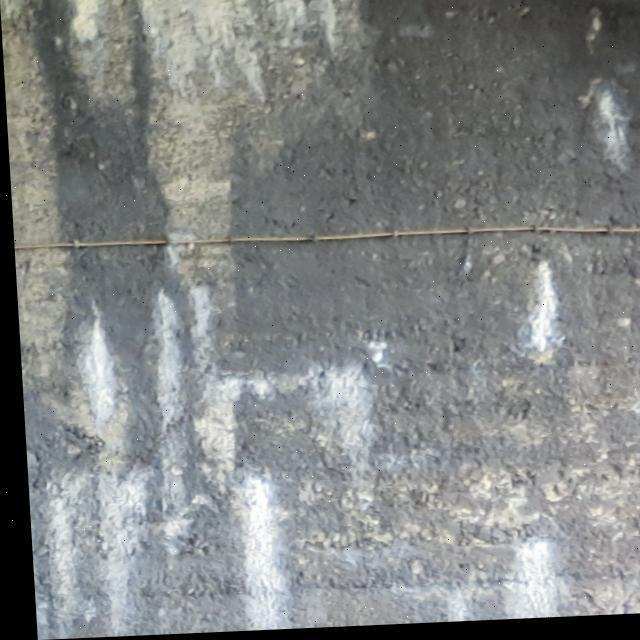D01: (238, 474, 293, 633), (82, 306, 121, 429), (526, 262, 565, 365), (70, 2, 105, 45)
